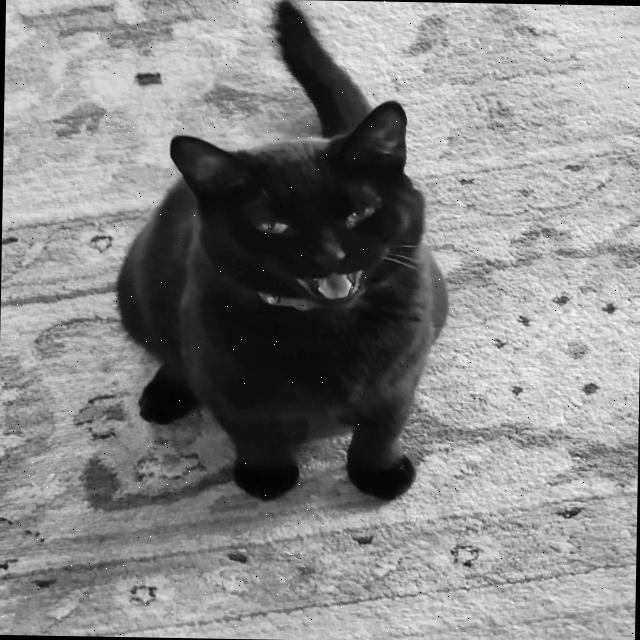bombay_cat: (160, 92, 435, 318)
